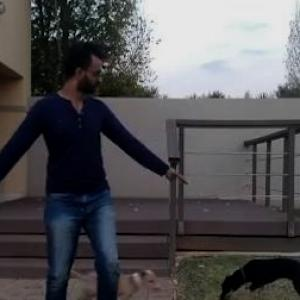land: (1, 12, 205, 299)
